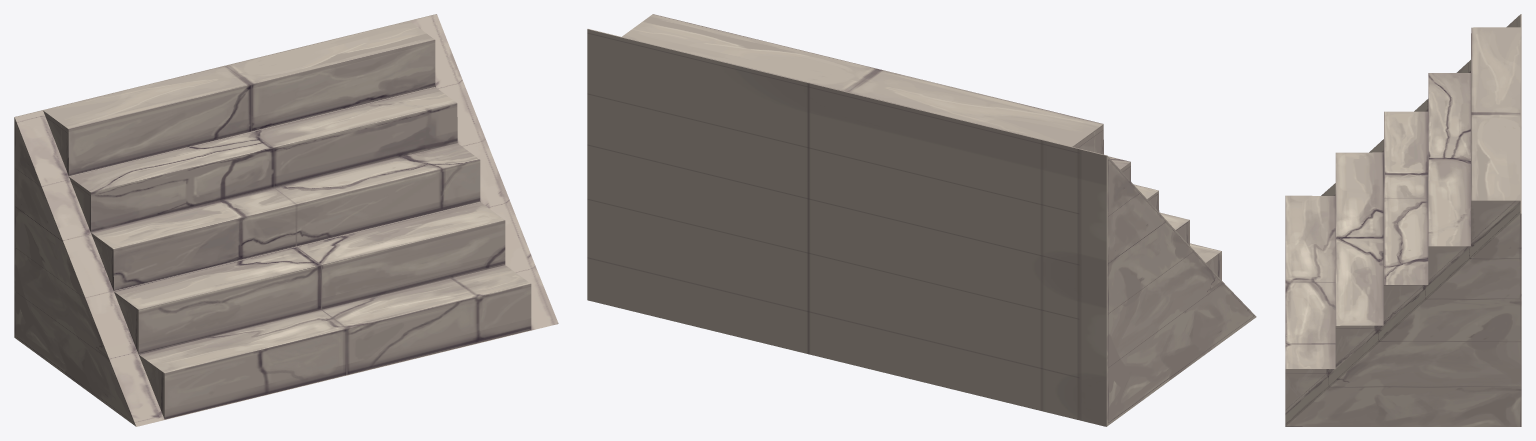
The model's file is trap 2 inc texture.fbx.
3 views of the same model, side by side, from view 1: azimuth 30°, elevation 25°; view 2: azimuth 150°, elevation 25°; view 3: azimuth 270°, elevation 25° (orthographic). The views are drawn at different scales.
Parts seen in each view (by area): view 1: pasted__pCube1; view 2: pasted__pCube1; view 3: pasted__pCube1.
Boxes of the visible parts, <box> form: pasted__pCube1: <box>14,14,558,426</box>; pasted__pCube1: <box>587,14,1256,426</box>; pasted__pCube1: <box>1285,14,1521,426</box>.
Size of the model in its own units: 2 by 0.9954 by 1.
1 material, 1 textured.
